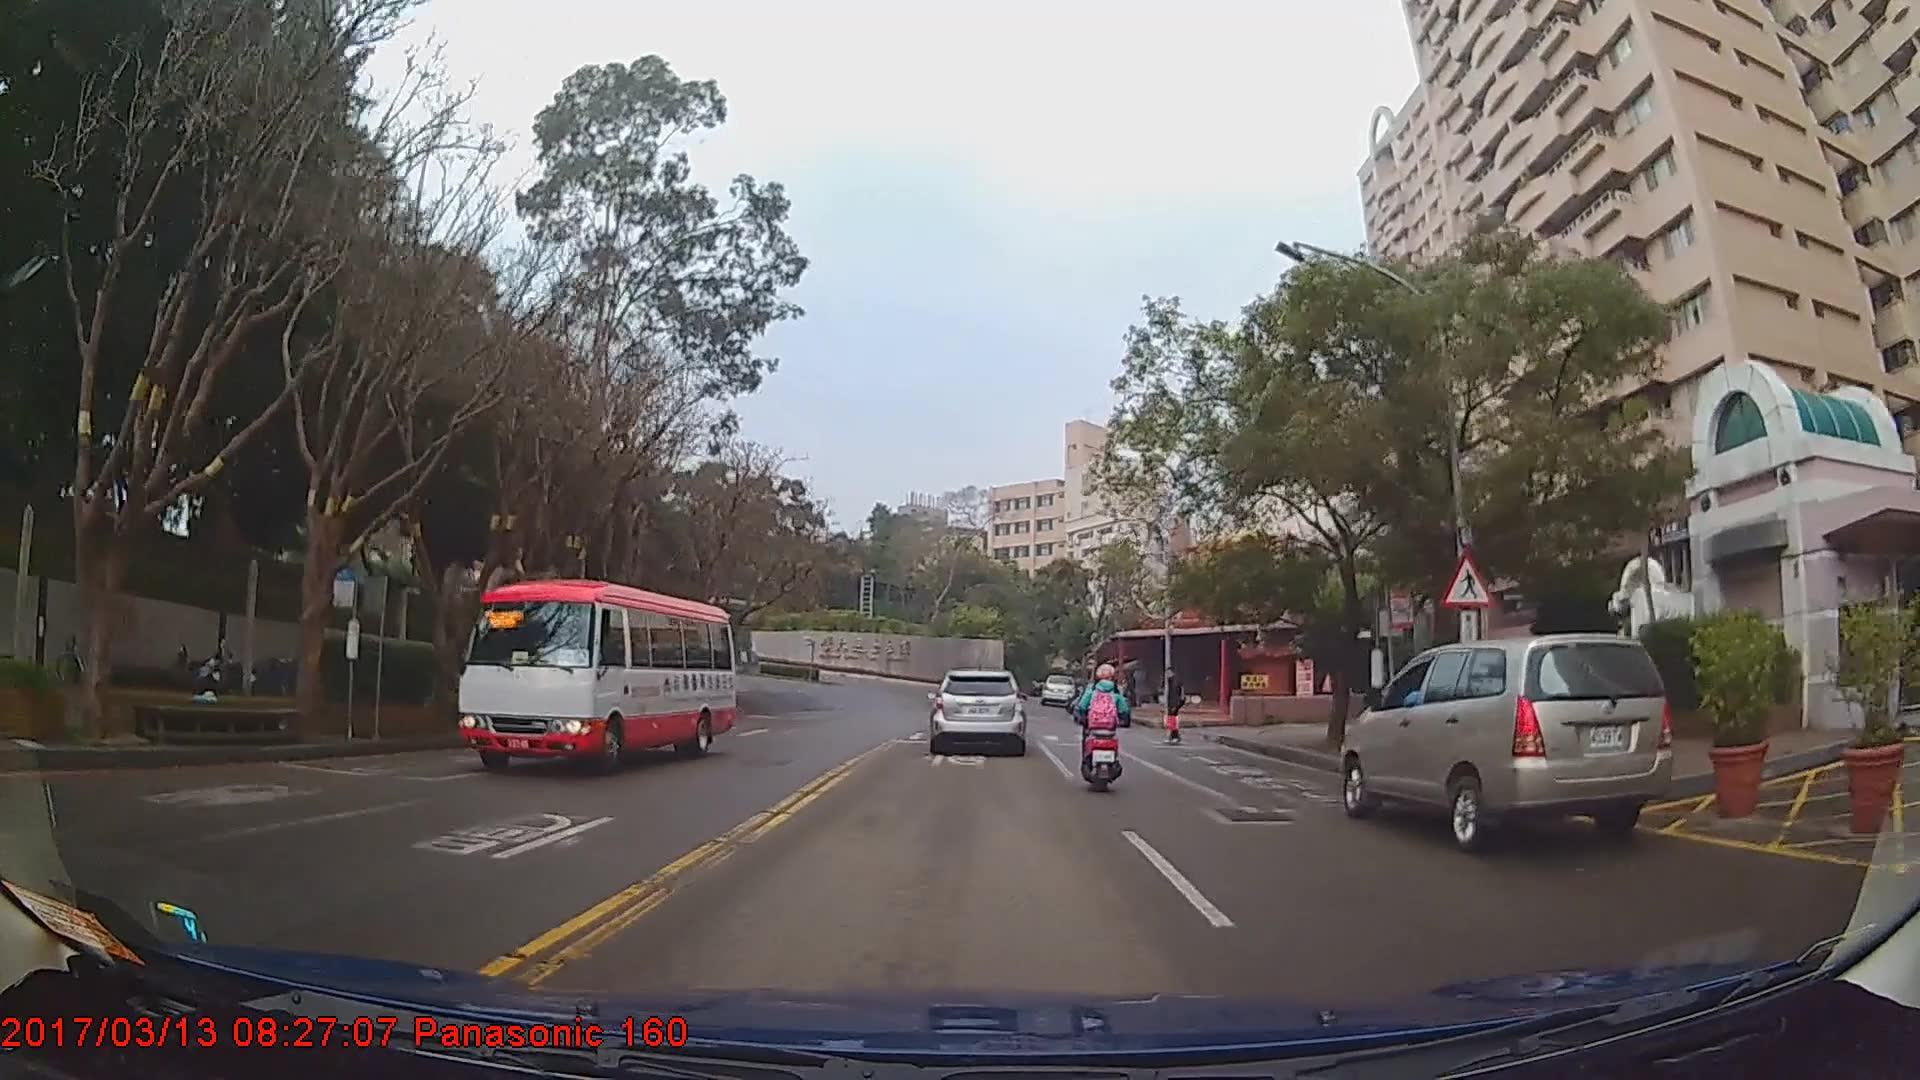pedestrian: (1162, 668, 1190, 749)
rider: (1073, 665, 1129, 795)
vehicle: (1339, 629, 1677, 849), (456, 577, 734, 773), (925, 669, 1027, 755), (1041, 672, 1076, 703)
